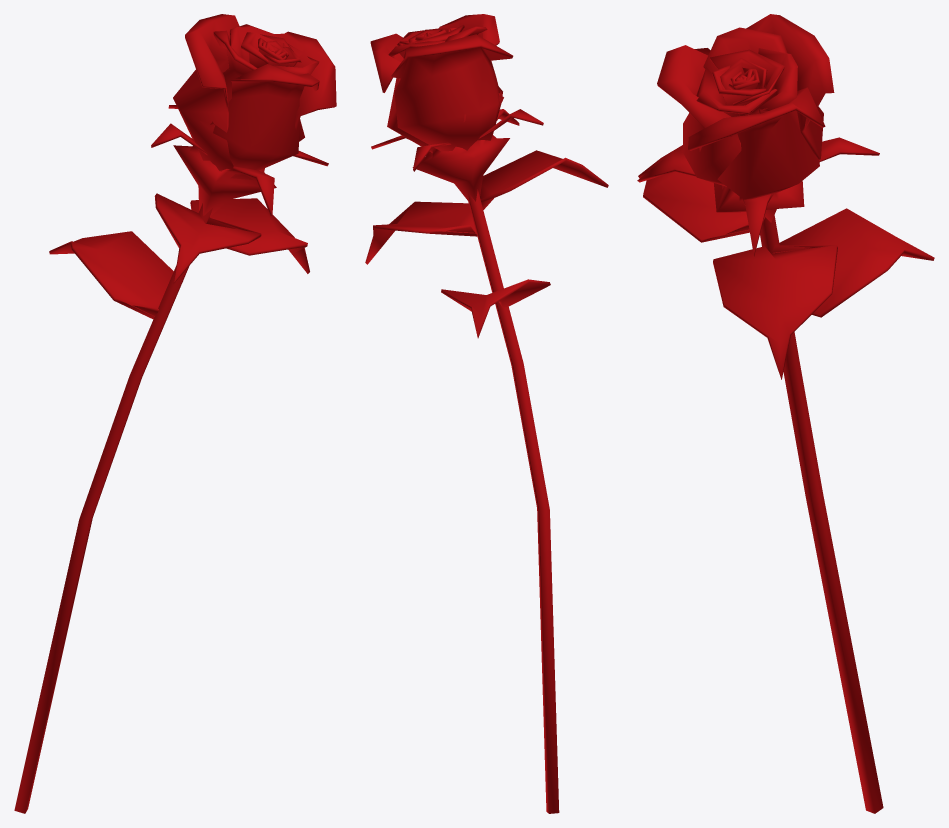
File: Rose01.fbx
3 views of the same model, side by side, from view 1: azimuth 30°, elevation 25°; view 2: azimuth 150°, elevation 25°; view 3: azimuth 270°, elevation 25° (orthographic). The views are drawn at different scales.
Parts seen in each view (by area): view 1: Rose_flower.001; view 2: Rose_flower.001; view 3: Rose_flower.001.
Boxes of the visible parts, left/top/right/bottom form: Rose_flower.001: left=14, top=14, right=336, bottom=813; Rose_flower.001: left=365, top=14, right=608, bottom=813; Rose_flower.001: left=637, top=14, right=934, bottom=813.
Size of the model in its own units: 88.22 by 254 by 79.05.
